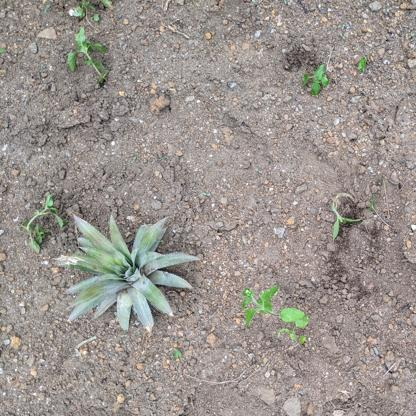pineapple: (52, 211, 204, 333)
weed: (236, 283, 313, 335), (15, 188, 66, 255), (64, 26, 108, 82), (303, 61, 332, 101)
